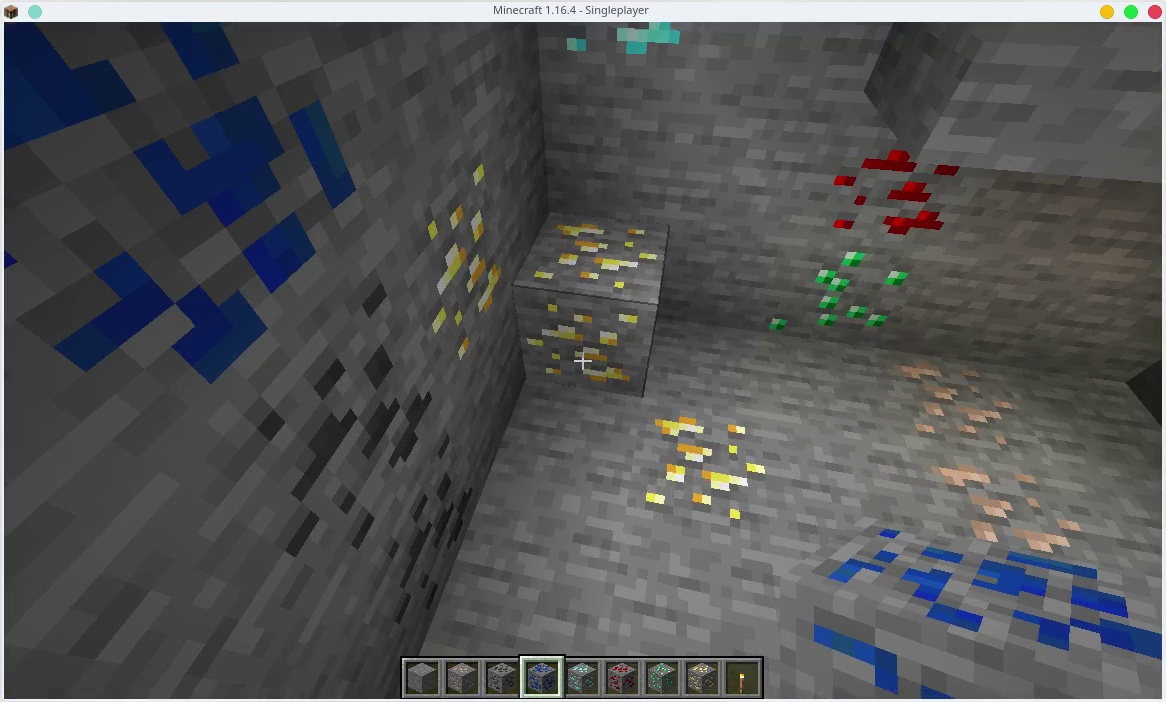gold: (527, 196, 653, 391), (640, 410, 775, 539), (423, 167, 506, 360), (689, 659, 716, 693)
